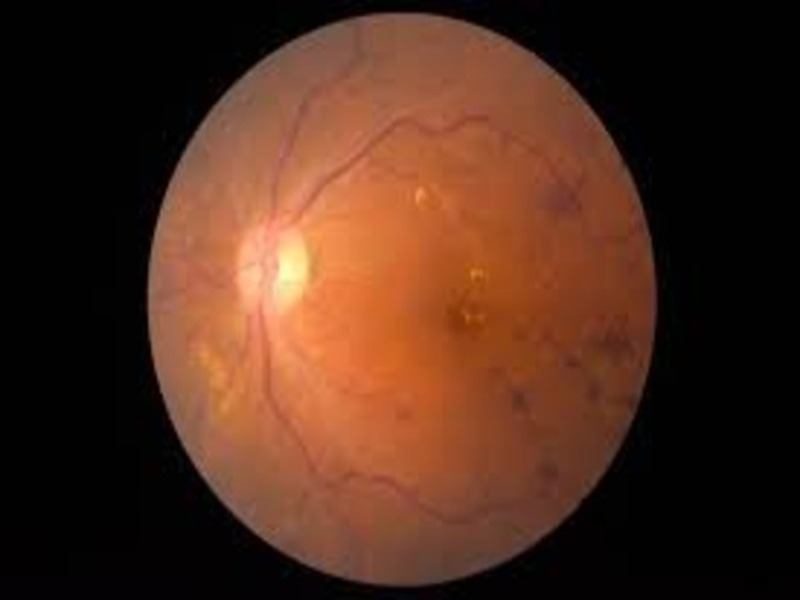Optic Cup: (277, 241, 307, 295)
Optic Disc: (233, 213, 313, 314)
